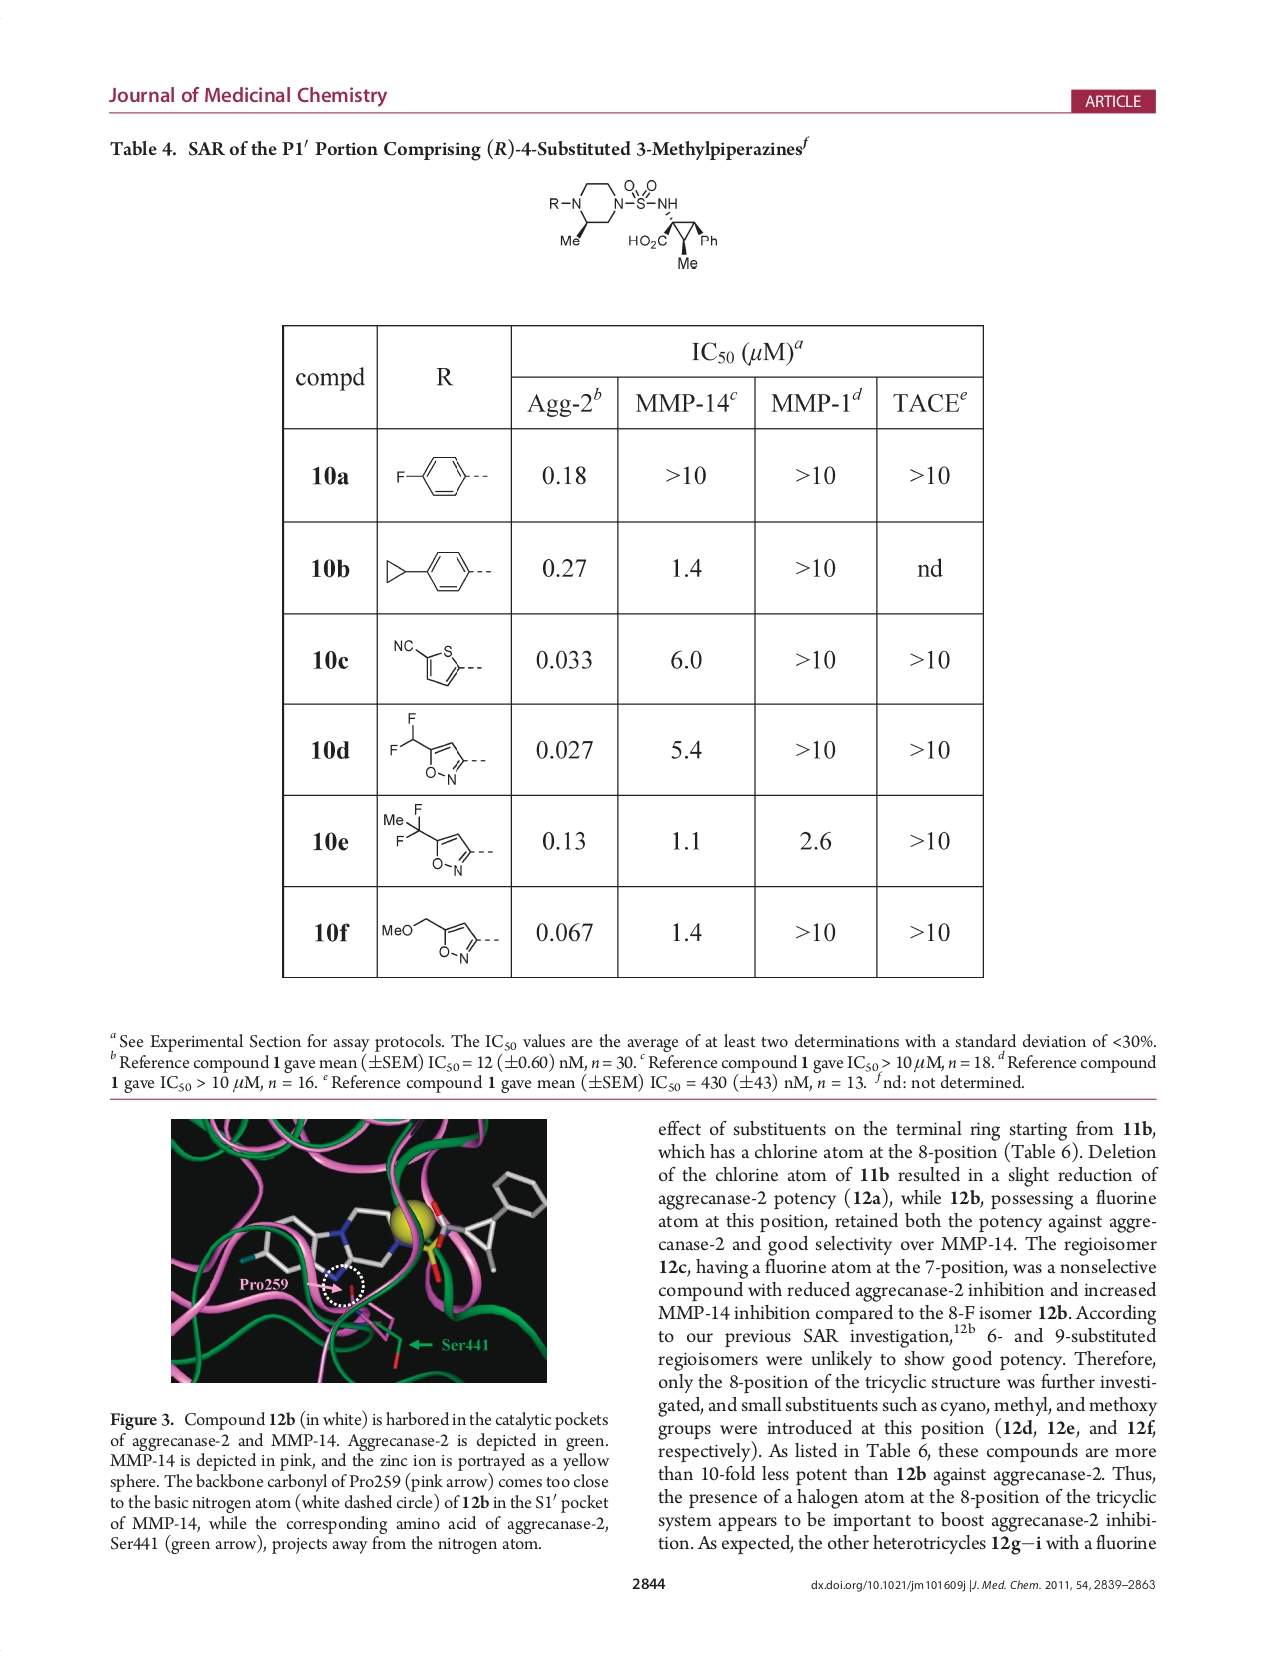exist_molecular: (547, 177, 718, 274), (382, 801, 496, 876), (387, 709, 489, 789), (380, 914, 501, 965), (390, 448, 491, 503), (382, 548, 492, 596), (391, 637, 483, 692)
